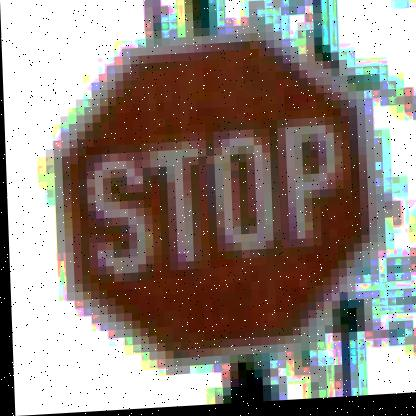Stop Sign: (41, 19, 390, 388)
